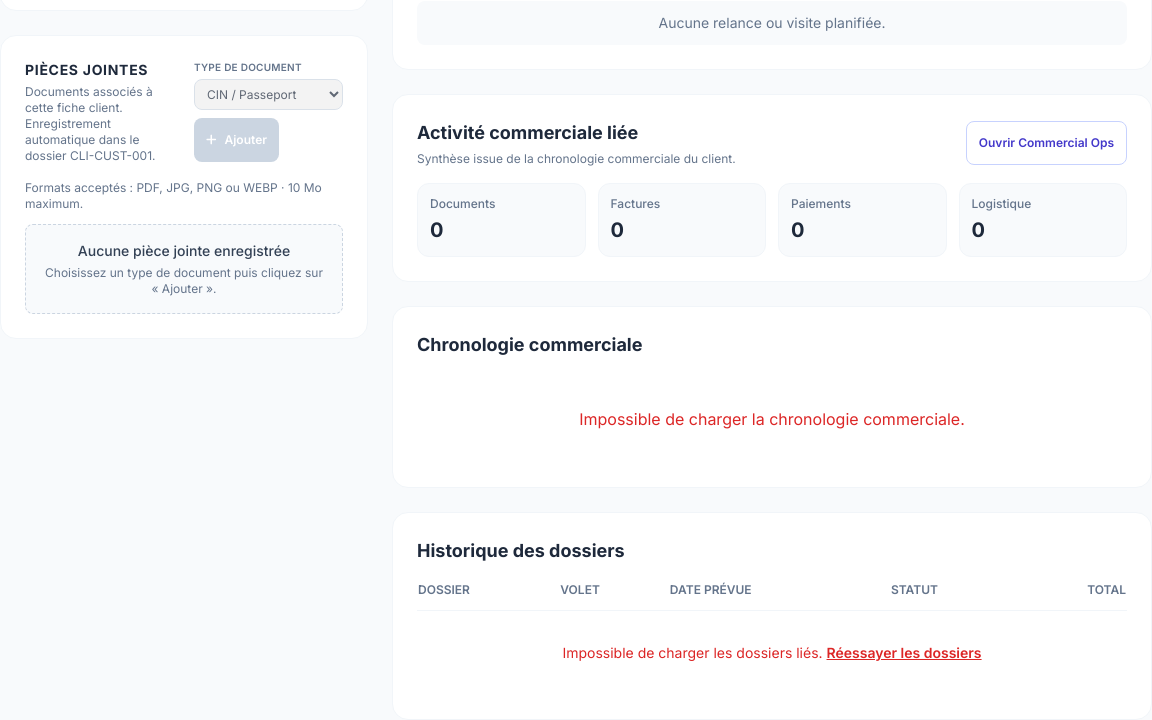
Test case: CustomerDetailPage › distingue le chargement, une erreur et un historique vide et permet de réessayer
The image size is (1152, 720).
(page scrolled)
Expected: the text "Chargement des dossiers liés…" is shown, [417,610,1127,695]
Expected: the text "Impossible de charger les dossiers liés." is shown, [562,644,823,661]
Click the button "Réessayer les dossiers" at (904, 653), box [826,643,982,663]
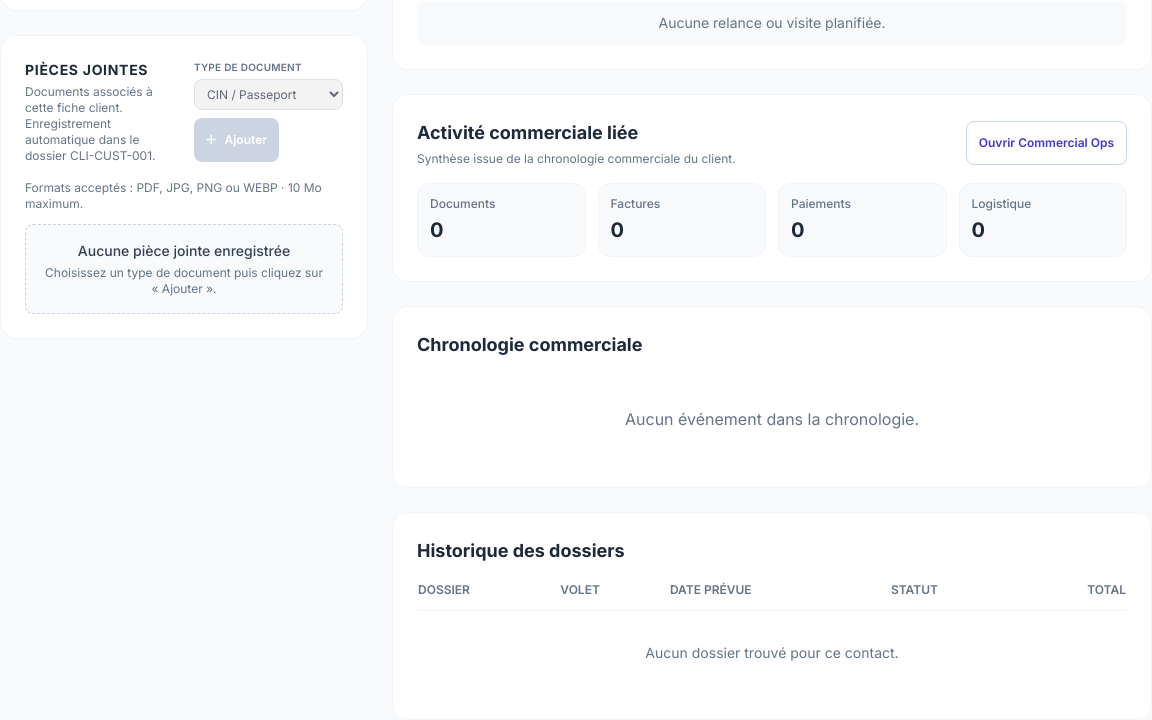
Result: the text "Aucun dossier trouvé pour ce contact." is shown at [417,610,1127,695]
